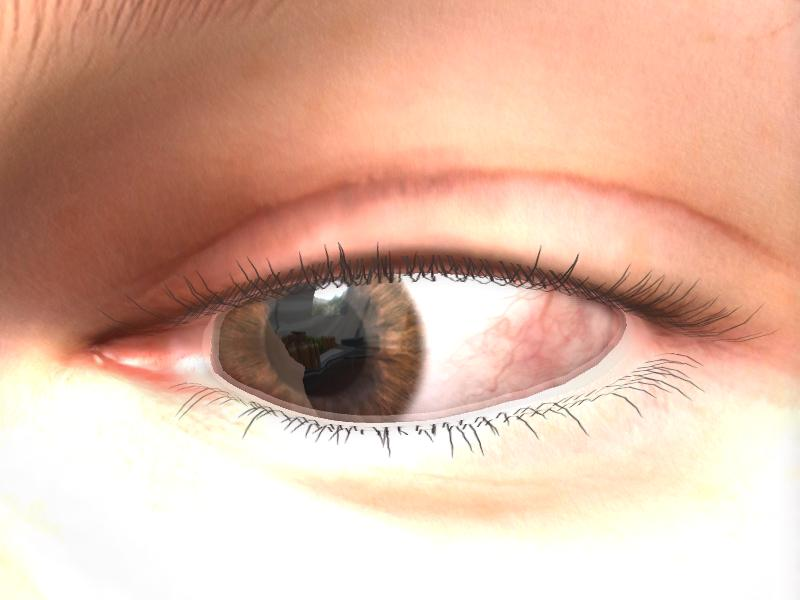eye: (220, 270, 423, 418)
